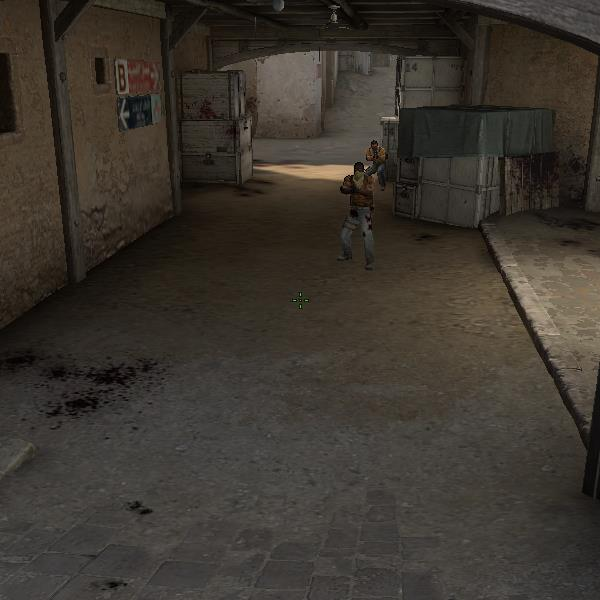t_body: (360, 138, 387, 190)
t_head: (369, 139, 380, 150)
